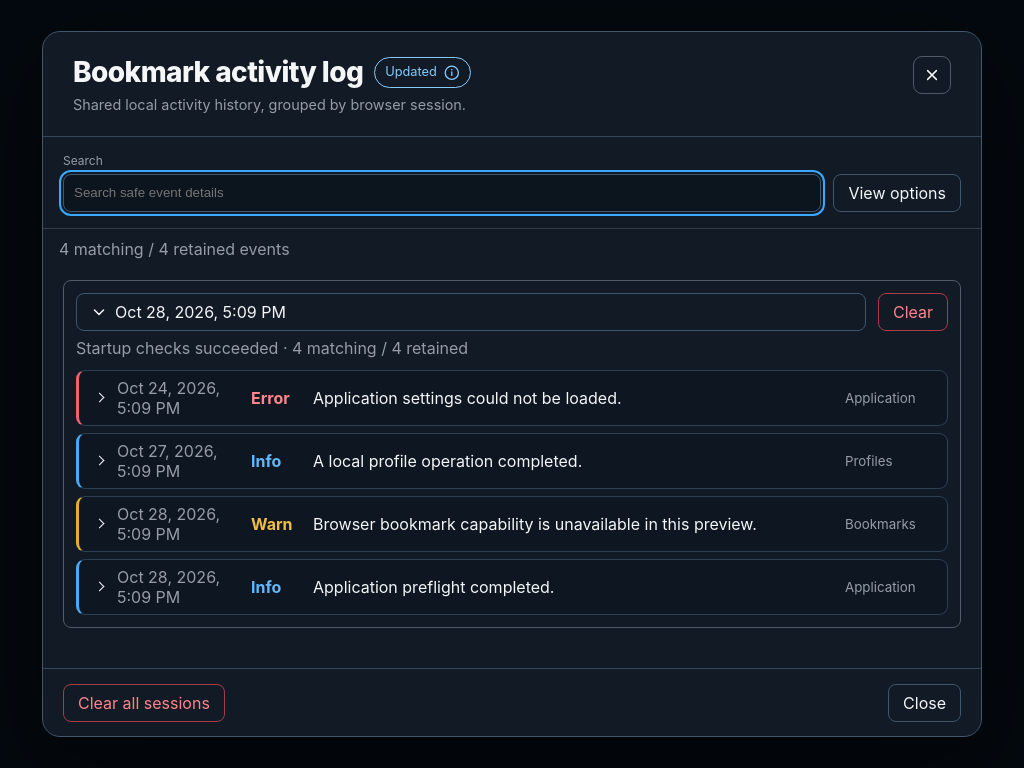
Test case: shared activity log › keeps recording and retention controls out of view options
Click the button "View options" at (897, 193), box [834, 174, 961, 212]
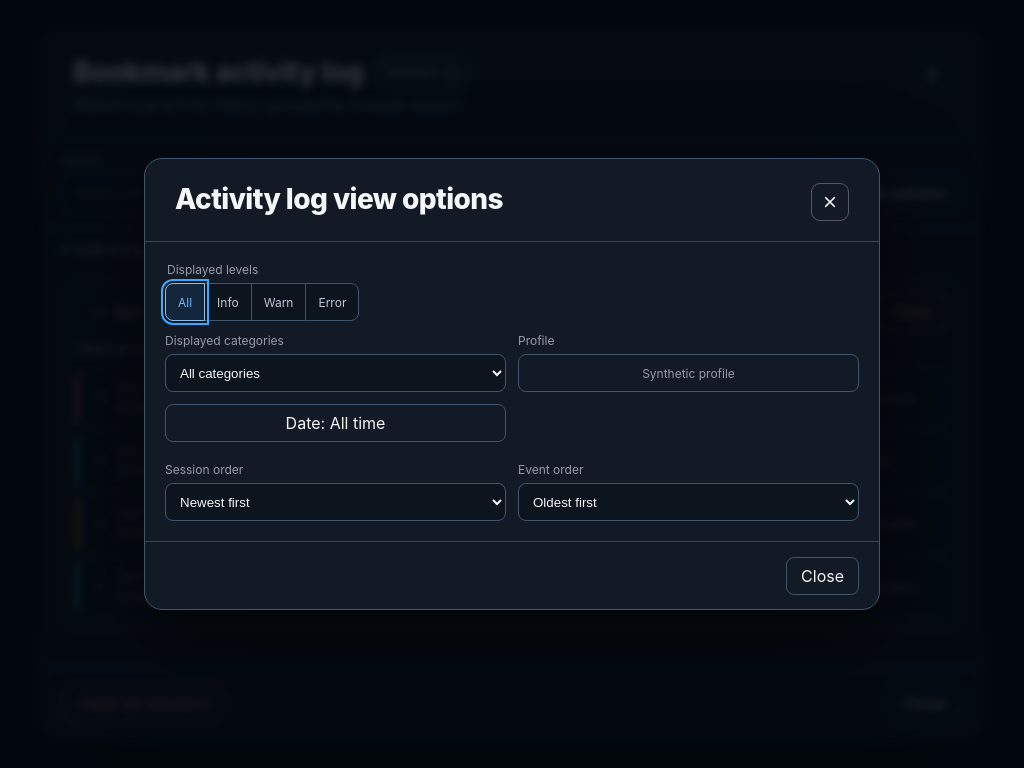
Expected: the dropdown labelled "Session order" is shown, [165, 483, 506, 521]
Expected: the dropdown labelled "Event order" is shown, [518, 483, 859, 521]
